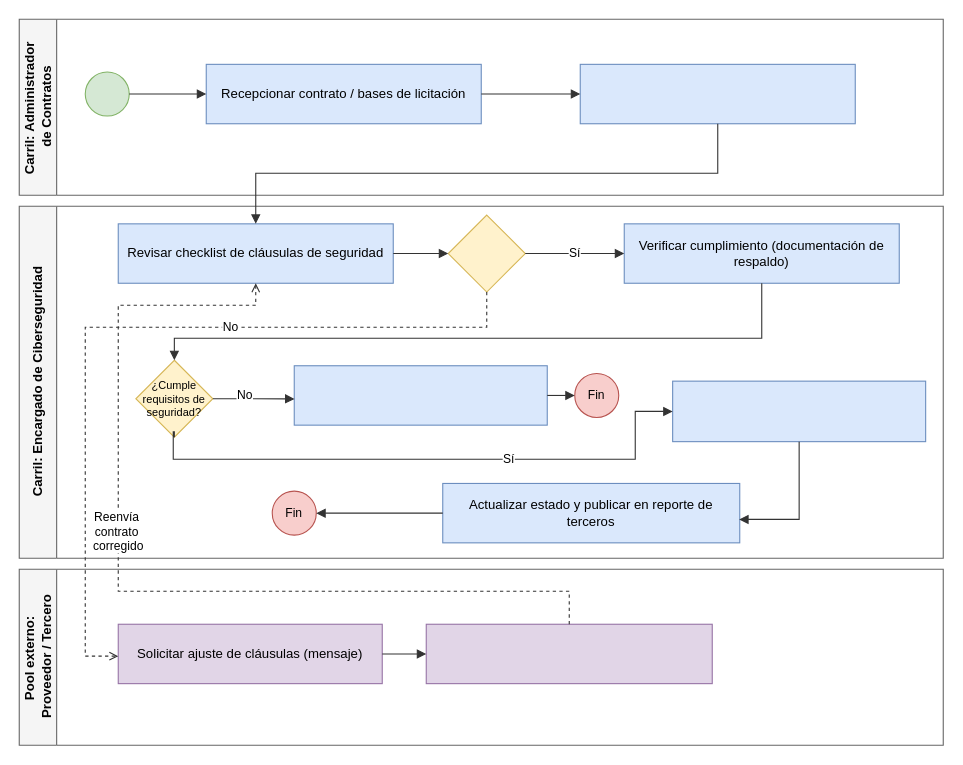
The diagram is 963 pixels wide and 765 high, and some of its shapes have lost their labels. The centre of each missing label's shape, as x and y in pixels:
"Corregir / incorporar cláusulas de seguridad" belongs at point 568,653.
"Inicio" belongs at point 106,93.
"Marcar conforme / habilitado" belongs at point 799,411.
"Marcar no conforme + plan de acción" belongs at point 420,395.
"Registrar tercero y contrato" belongs at point 717,93.
"¿Cláusulas completas?" belongs at point 486,253.
